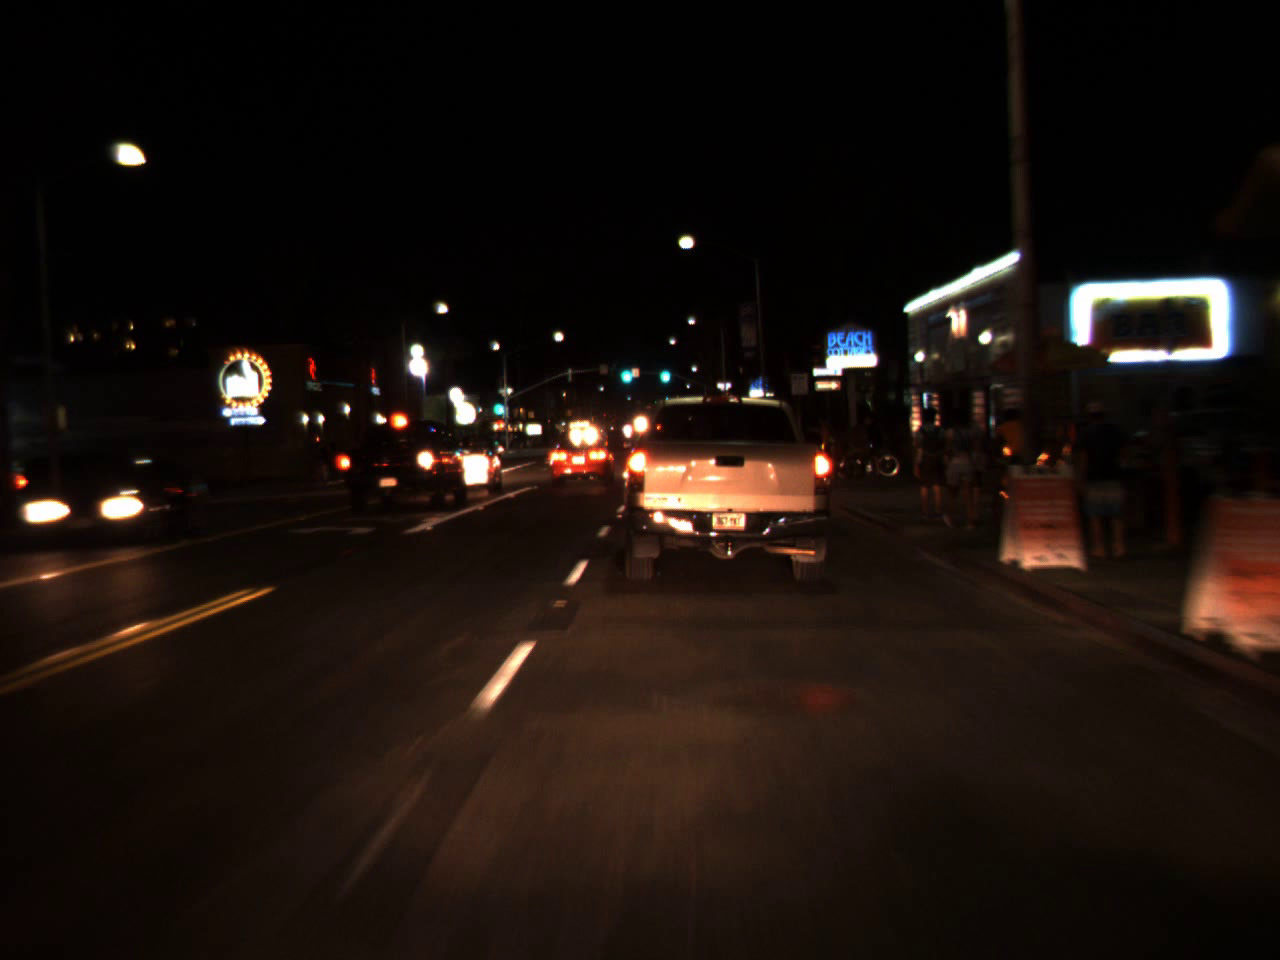go: (617, 354, 635, 387), (655, 357, 673, 387), (490, 389, 502, 419)
